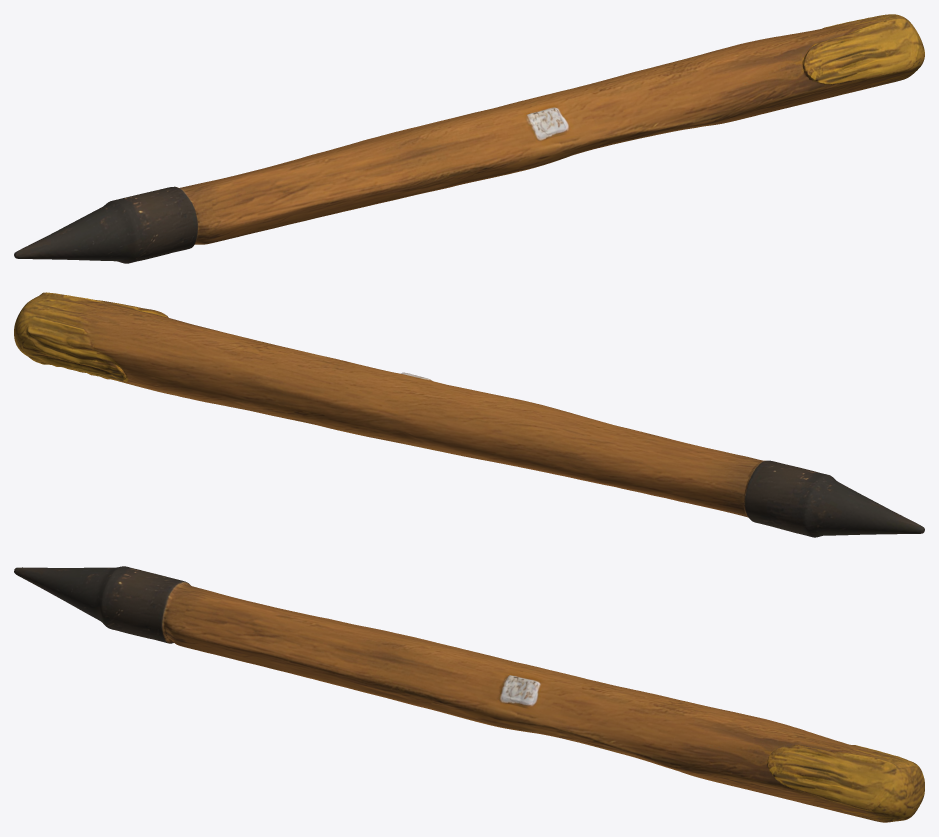
File: tugal-pelubang.glb
3 renders of one model, top to bottom at view 1: azimuth 30°, elevation 25°; view 2: azimuth 150°, elevation 25°; view 3: azimuth 330°, elevation 25°, orthographic.
Visible parts, largest first — view 1: tripo_node_0be17372-5375-4ec1-b621-3abd4fdd20f5; view 2: tripo_node_0be17372-5375-4ec1-b621-3abd4fdd20f5; view 3: tripo_node_0be17372-5375-4ec1-b621-3abd4fdd20f5.
Part boxes in pixels (box(x1,y1,x2,y2)): tripo_node_0be17372-5375-4ec1-b621-3abd4fdd20f5: box(14, 14, 924, 263); tripo_node_0be17372-5375-4ec1-b621-3abd4fdd20f5: box(14, 292, 924, 537); tripo_node_0be17372-5375-4ec1-b621-3abd4fdd20f5: box(14, 566, 924, 822).
Size of the model in its own units: 3.23 by 0.22 by 0.2877.
1 material, 1 textured.
